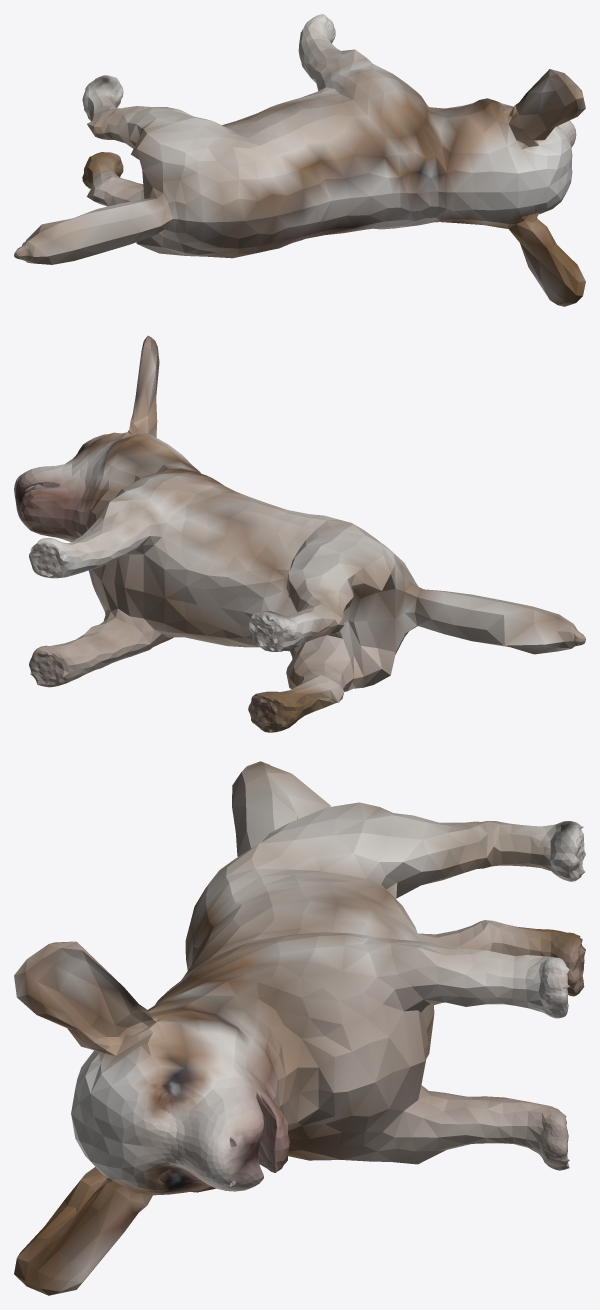
The model's file is test_stand1.glb.
The picture shows the model from 3 angles, top to bottom: view 1: azimuth 30°, elevation 25°; view 2: azimuth 150°, elevation 25°; view 3: azimuth 270°, elevation 25°; orthographic projection. The views are drawn at different scales.
Bounding box in the file's own units: 2.02 × 0.8258 × 1.22.
